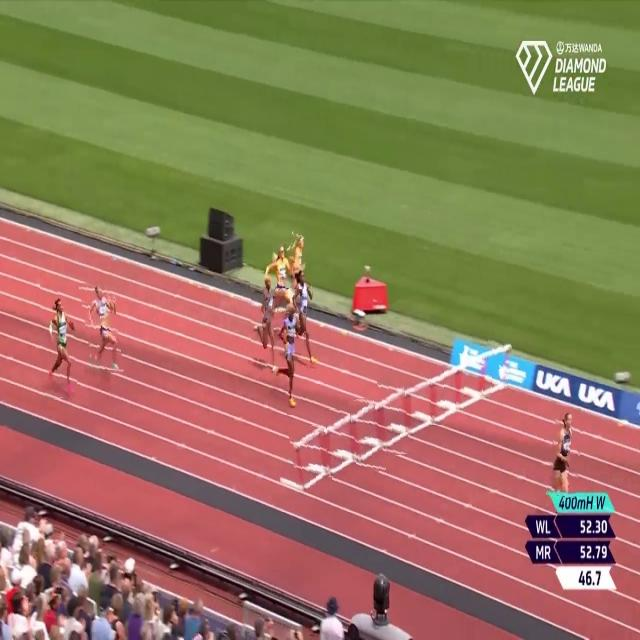athlete: (274, 289, 306, 415), (42, 285, 76, 399), (82, 280, 121, 375), (289, 268, 323, 368), (251, 271, 282, 374), (548, 406, 582, 498), (266, 246, 294, 329), (284, 235, 307, 300)
hurdle: (291, 425, 331, 491), (351, 397, 383, 474), (379, 377, 410, 456), (326, 409, 356, 477), (482, 338, 510, 398), (457, 350, 483, 410), (408, 374, 430, 442), (431, 368, 457, 425)
